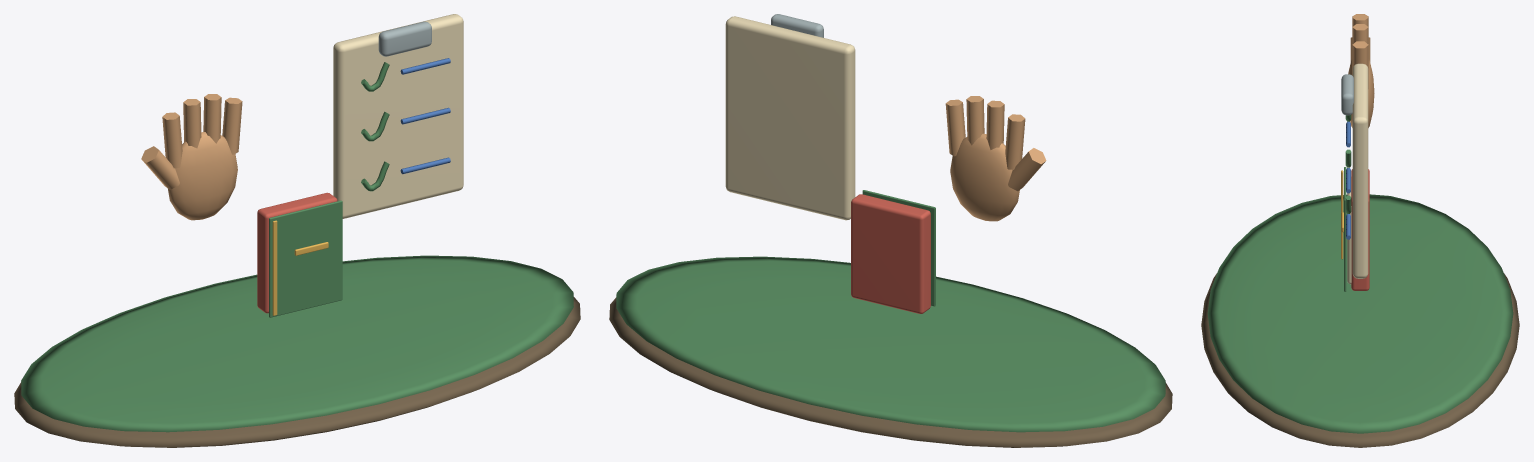
Rendered from complete-second-made-homework.glb.
3 views of the same model, side by side, from view 1: azimuth 30°, elevation 25°; view 2: azimuth 150°, elevation 25°; view 3: azimuth 270°, elevation 25° (orthographic). The views are drawn at different scales.
Visible parts, largest first — view 1: complete-second-made-homework_surface_01, complete-second-made-homework_surface_03, complete-second-made-homework_surface_00, complete-second-made-homework_surface_02, complete-second-made-homework_surface_06, complete-second-made-homework_surface_04, complete-second-made-homework_surface_05, complete-second-made-homework_surface_07; view 2: complete-second-made-homework_surface_01, complete-second-made-homework_surface_03, complete-second-made-homework_surface_00, complete-second-made-homework_surface_06, complete-second-made-homework_surface_02, complete-second-made-homework_surface_04; view 3: complete-second-made-homework_surface_01, complete-second-made-homework_surface_00, complete-second-made-homework_surface_03, complete-second-made-homework_surface_02, complete-second-made-homework_surface_06, complete-second-made-homework_surface_04, complete-second-made-homework_surface_05.
Part boxes in pixels (bbox=[...]): complete-second-made-homework_surface_01: bbox=[21, 62, 573, 432]; complete-second-made-homework_surface_03: bbox=[333, 14, 463, 218]; complete-second-made-homework_surface_00: bbox=[14, 297, 580, 447]; complete-second-made-homework_surface_02: bbox=[141, 94, 242, 220]; complete-second-made-homework_surface_06: bbox=[257, 192, 337, 313]; complete-second-made-homework_surface_04: bbox=[378, 21, 431, 56]; complete-second-made-homework_surface_05: bbox=[400, 58, 450, 174]; complete-second-made-homework_surface_07: bbox=[272, 220, 328, 315]; complete-second-made-homework_surface_01: bbox=[616, 190, 1165, 432]; complete-second-made-homework_surface_03: bbox=[725, 16, 855, 220]; complete-second-made-homework_surface_00: bbox=[609, 297, 1172, 447]; complete-second-made-homework_surface_06: bbox=[851, 194, 930, 313]; complete-second-made-homework_surface_02: bbox=[945, 96, 1046, 221]; complete-second-made-homework_surface_04: bbox=[771, 14, 823, 37]; complete-second-made-homework_surface_01: bbox=[1207, 115, 1513, 433]; complete-second-made-homework_surface_00: bbox=[1201, 273, 1519, 447]; complete-second-made-homework_surface_03: bbox=[1347, 63, 1368, 284]; complete-second-made-homework_surface_02: bbox=[1348, 14, 1374, 127]; complete-second-made-homework_surface_06: bbox=[1351, 169, 1369, 290]; complete-second-made-homework_surface_04: bbox=[1341, 74, 1353, 115]; complete-second-made-homework_surface_05: bbox=[1346, 121, 1350, 239].
Bounding box in the file's own units: 4.56 × 2.62 × 2.5.
